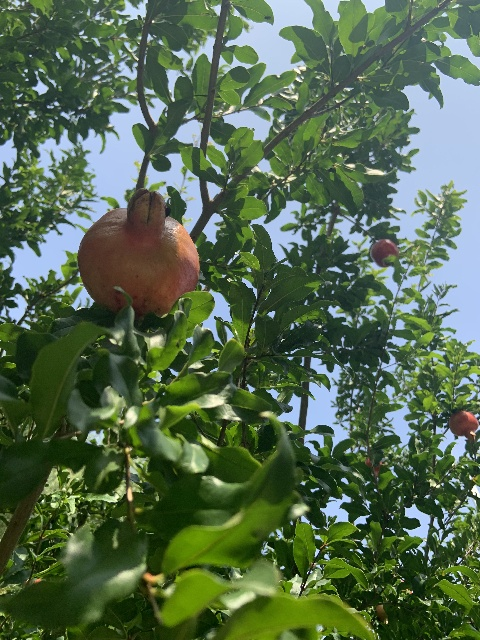ripe: (77, 187, 199, 316), (449, 410, 479, 442), (369, 239, 398, 267)
